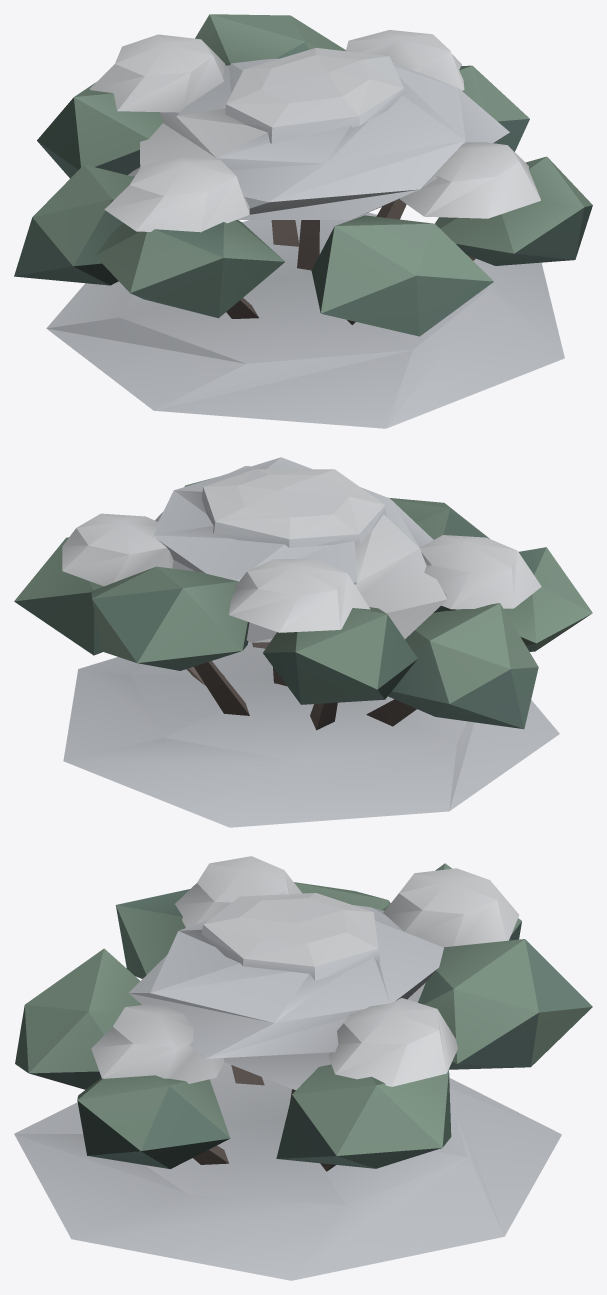
Rendered from dwarf.lod1.glb.
The picture shows the model from 3 angles, top to bottom: view 1: azimuth 30°, elevation 25°; view 2: azimuth 150°, elevation 25°; view 3: azimuth 270°, elevation 25°; orthographic projection. The views are drawn at different scales.
Size of the model in its own units: 2.55 by 1.15 by 2.42.
